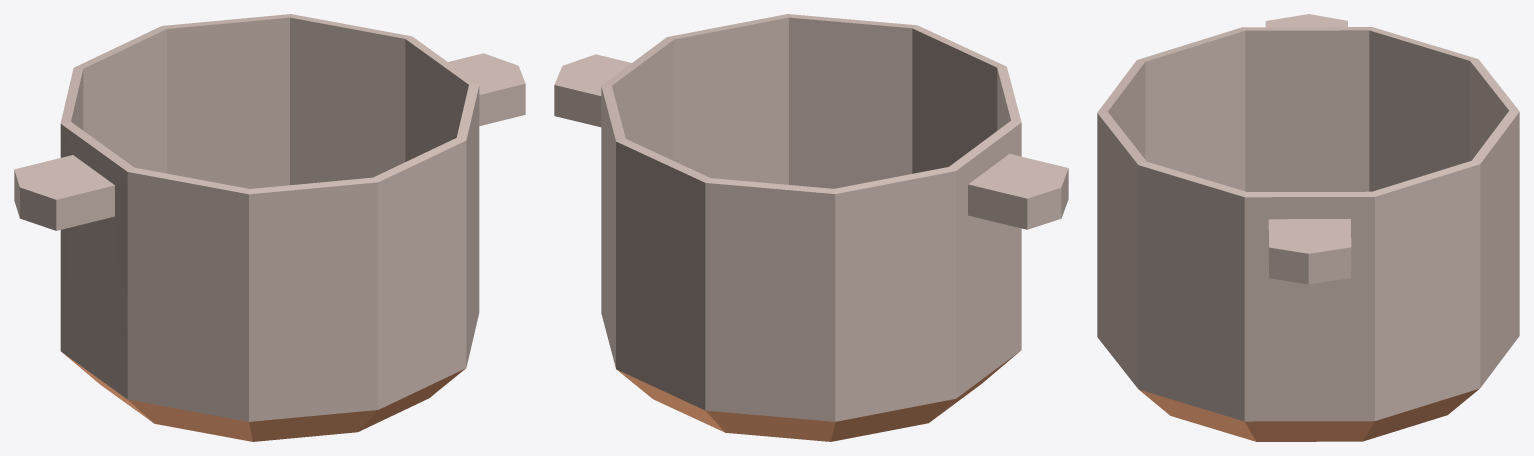
The model's file is pan_2.fbx.
3 renders of one model, left to right at view 1: azimuth 30°, elevation 25°; view 2: azimuth 150°, elevation 25°; view 3: azimuth 270°, elevation 25°, orthographic.
Visible parts, largest first — view 1: Pan_3; view 2: Pan_3; view 3: Pan_3.
Part boxes in pixels (x1,y1,x2,y2): Pan_3: (14, 14, 525, 441); Pan_3: (554, 14, 1068, 441); Pan_3: (1097, 14, 1519, 441).
Bounding box in the file's own units: 0.6412 × 0.3262 × 0.4774.
